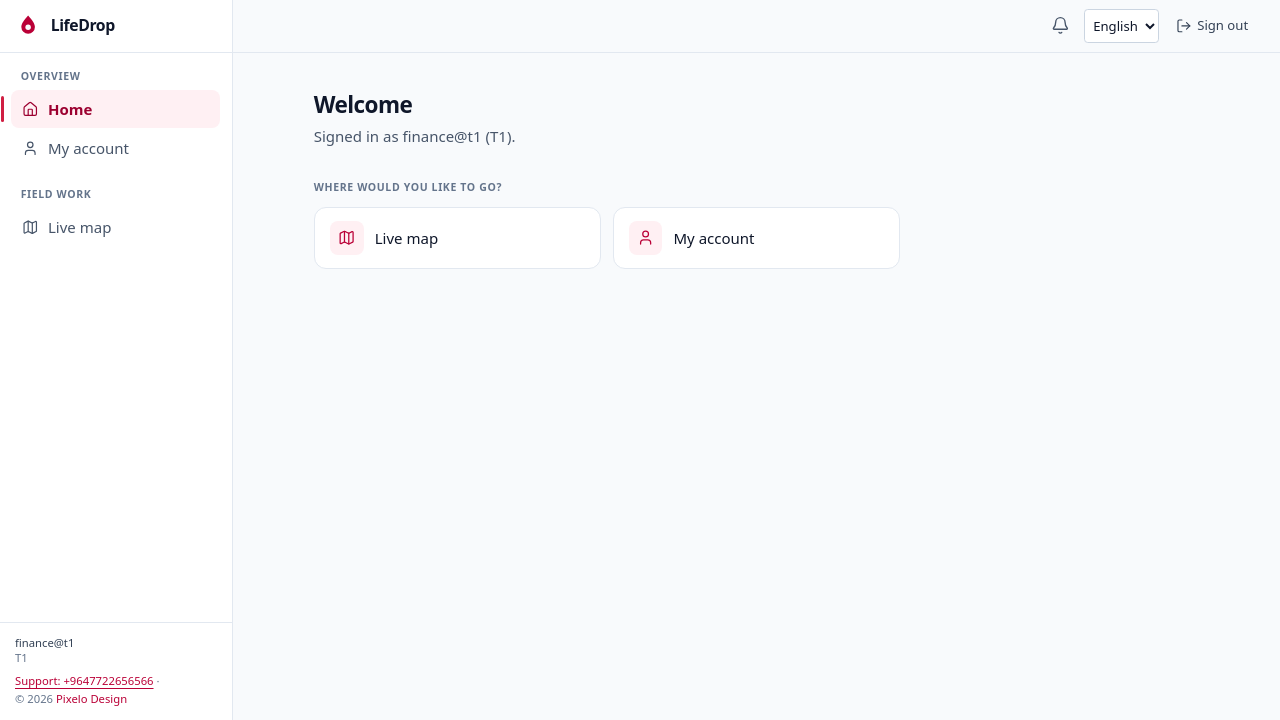
live map › shows status only, without a map, for a summary-only role
The width and height of the screenshot is (1280, 720).
Click the button "Live map".
click(116, 227)  # box [11, 209, 220, 246]
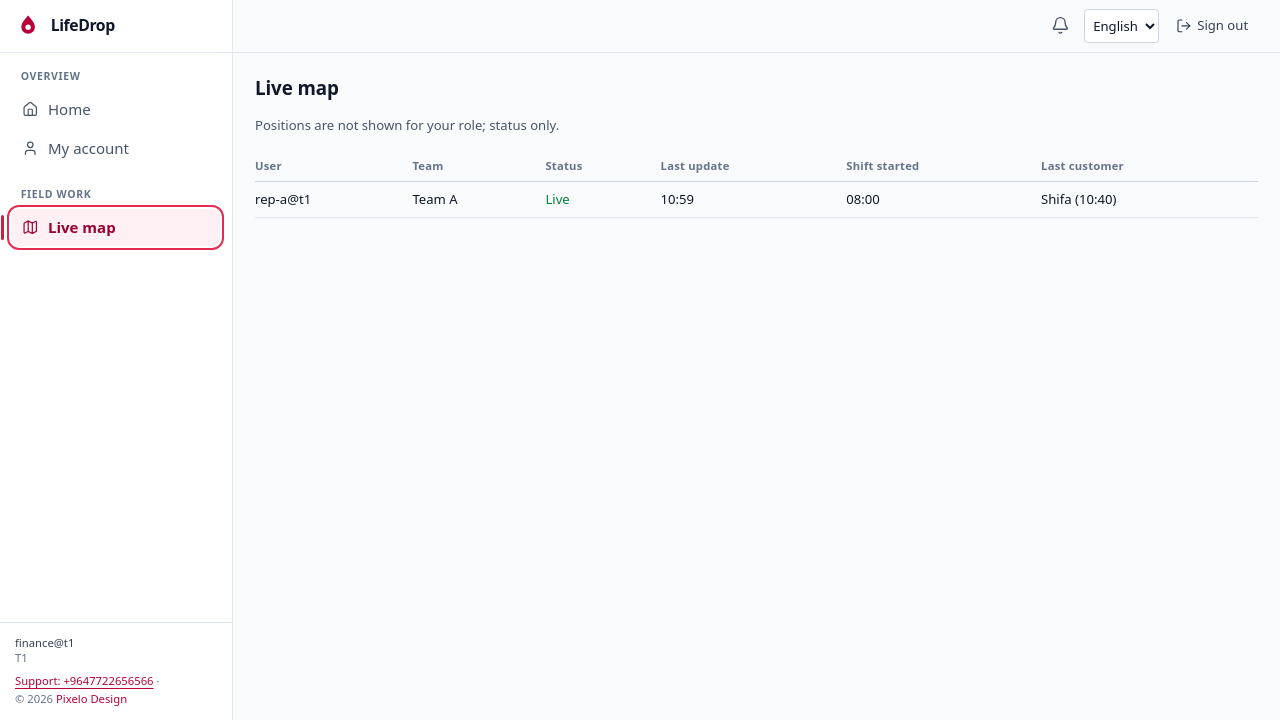
Check: the text "Positions are not shown for your role; status only." is shown, box [255, 116, 559, 134]
Check: the text "Shifa (10:40)" is shown, box [1041, 182, 1258, 218]
